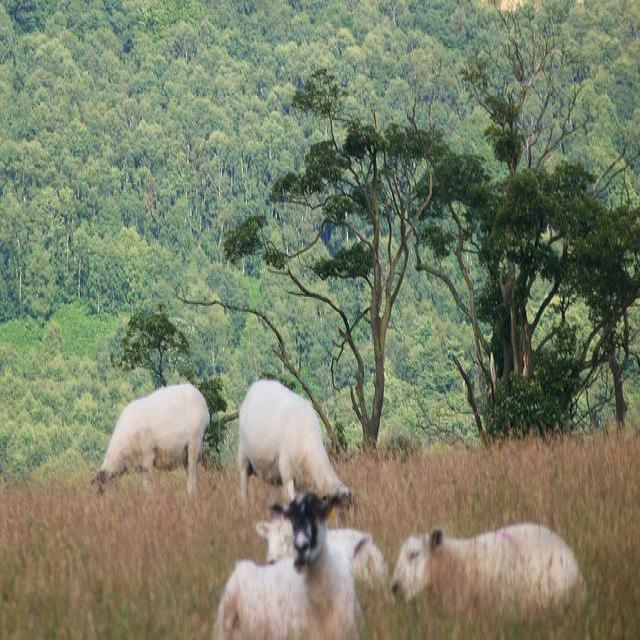Sheep: (391, 522, 589, 630), (217, 493, 358, 639), (237, 373, 355, 531), (90, 382, 211, 514), (251, 519, 393, 607)
